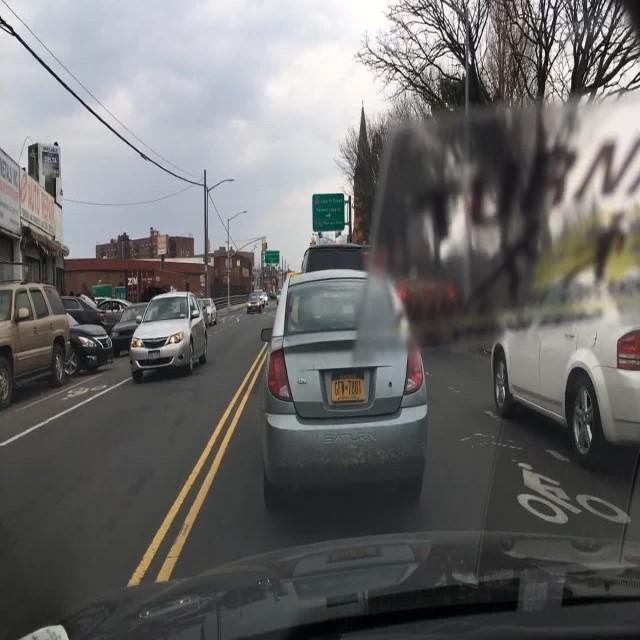normal: (259, 272, 427, 511), (0, 283, 73, 413), (131, 293, 212, 382), (57, 298, 115, 375), (199, 297, 219, 327)
